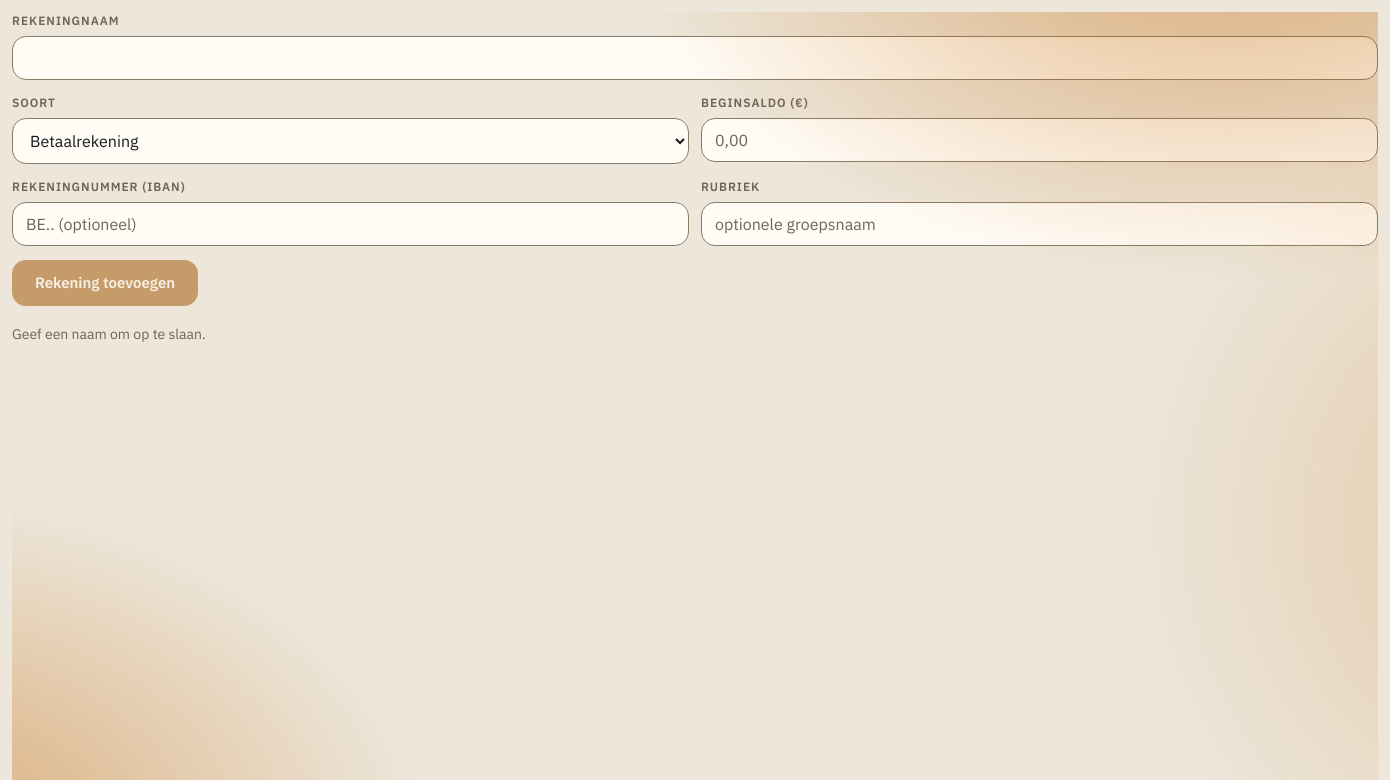
Test: RekeningFormulier — kredietrekening (ronde 38) › toont de kredietvelden pas wanneer je het type krediet kiest
expect the field labelled "Kredietlimiet (€)" is not shown: met
Select "Kredietkaart of kredietopening" in the dropdown labelled "Soort". click: (350, 141)
box: [12, 118, 689, 164]
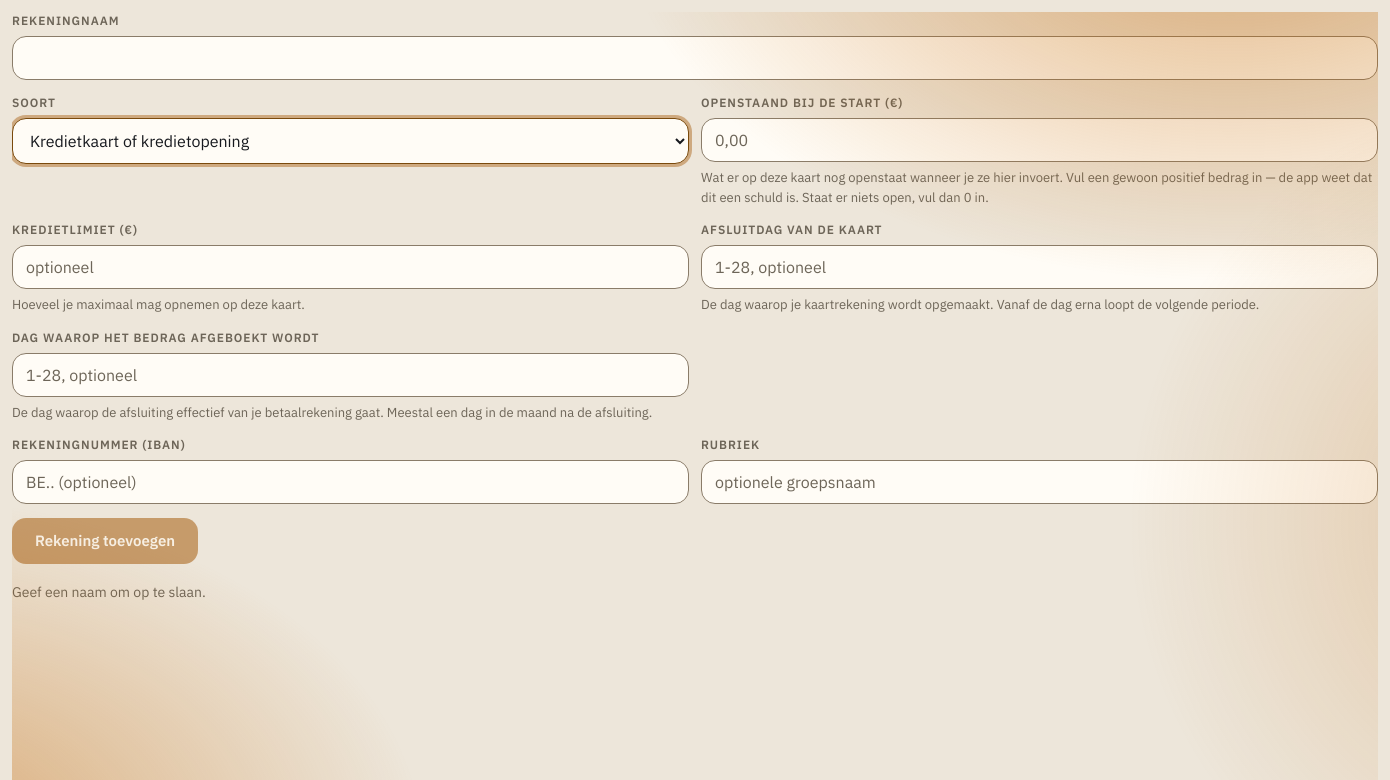
expect the field labelled "Kredietlimiet (€)" is shown: met, box [12, 245, 689, 289]
expect the field labelled "Afsluitdag van de kaart" is shown: met, box [701, 245, 1378, 289]
expect the field labelled "Dag waarop het bedrag afgeboekt wordt" is shown: met, box [12, 352, 689, 396]
